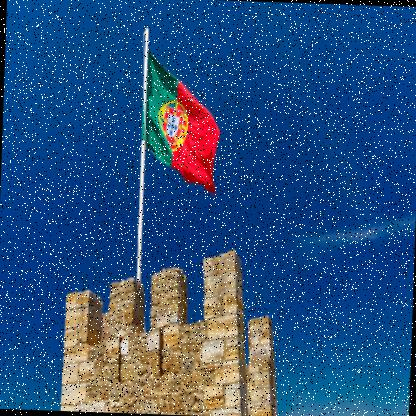pt: (143, 51, 225, 198)
